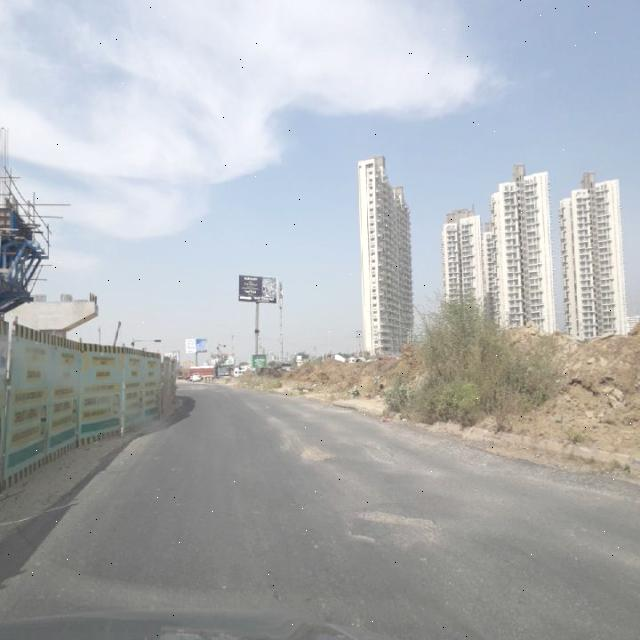D40: (338, 500, 444, 544), (288, 439, 342, 468)
